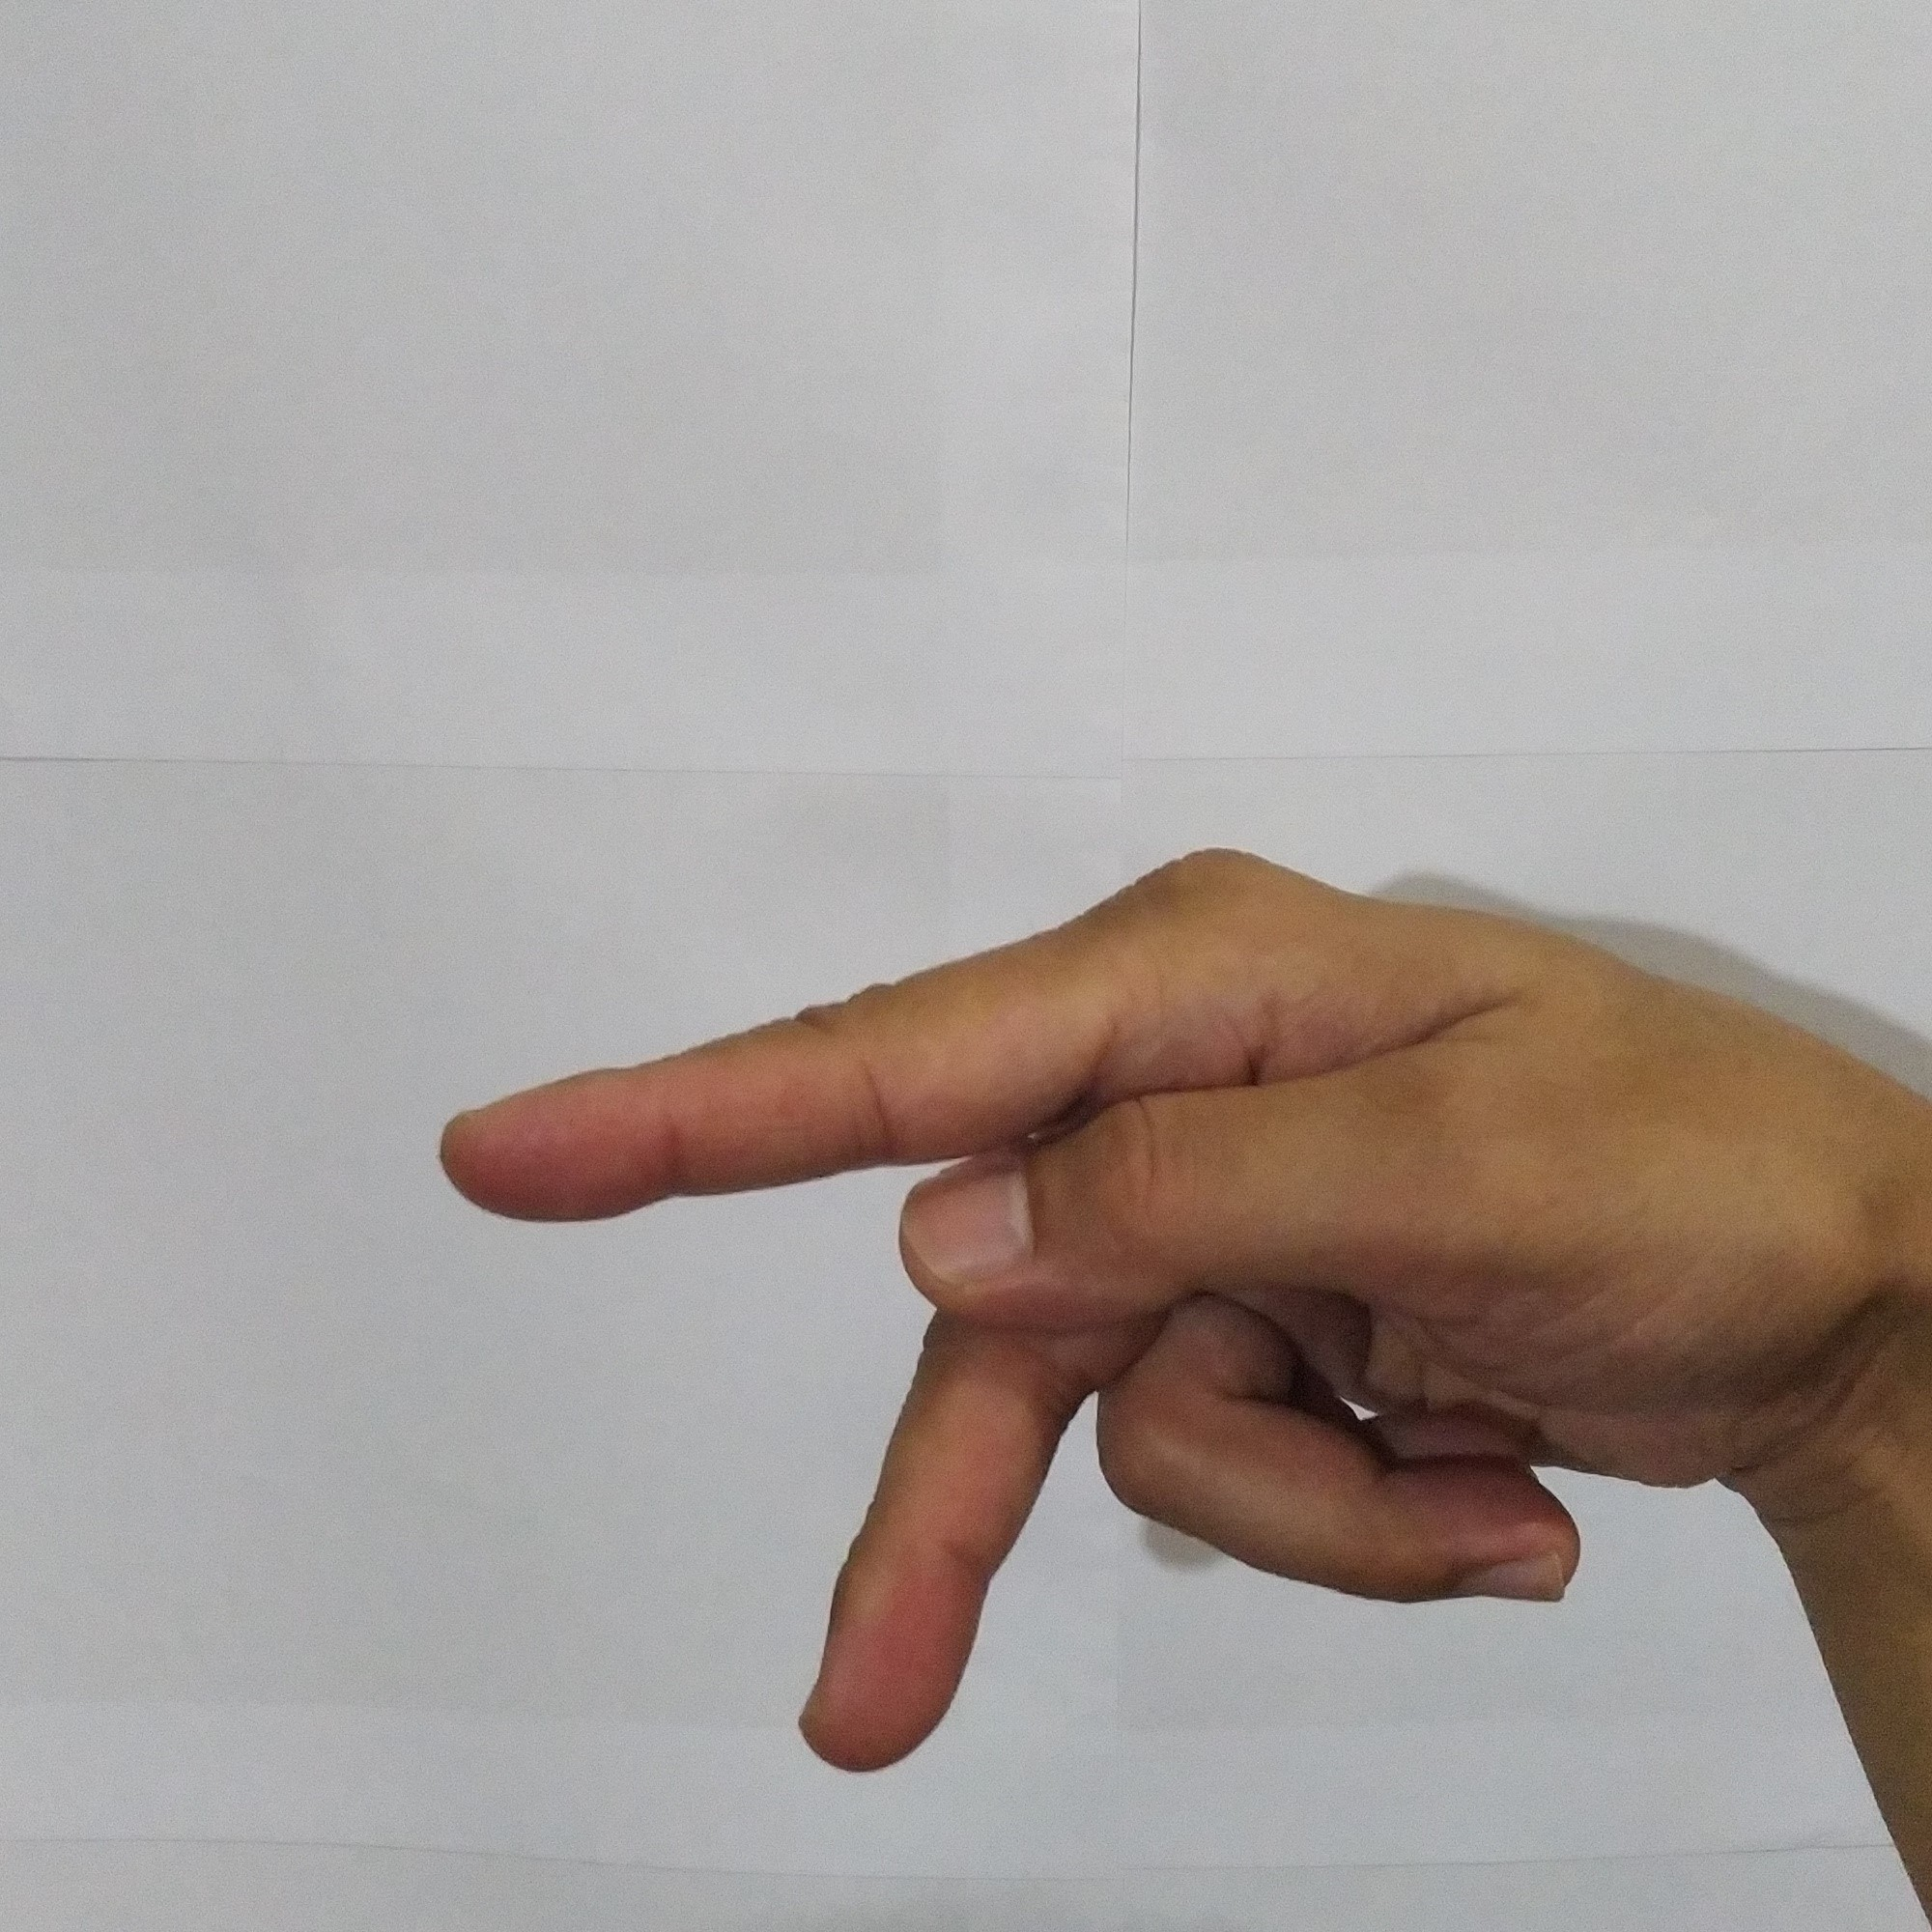P: (407, 812, 1932, 1803)
